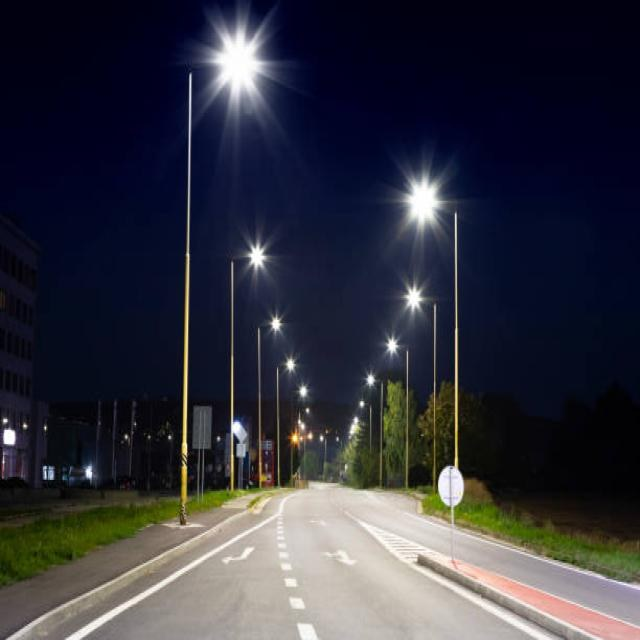acesa: (182, 8, 300, 126), (386, 160, 455, 232), (231, 223, 282, 284), (394, 272, 432, 320), (267, 314, 286, 338), (364, 369, 379, 390), (285, 355, 298, 375)
